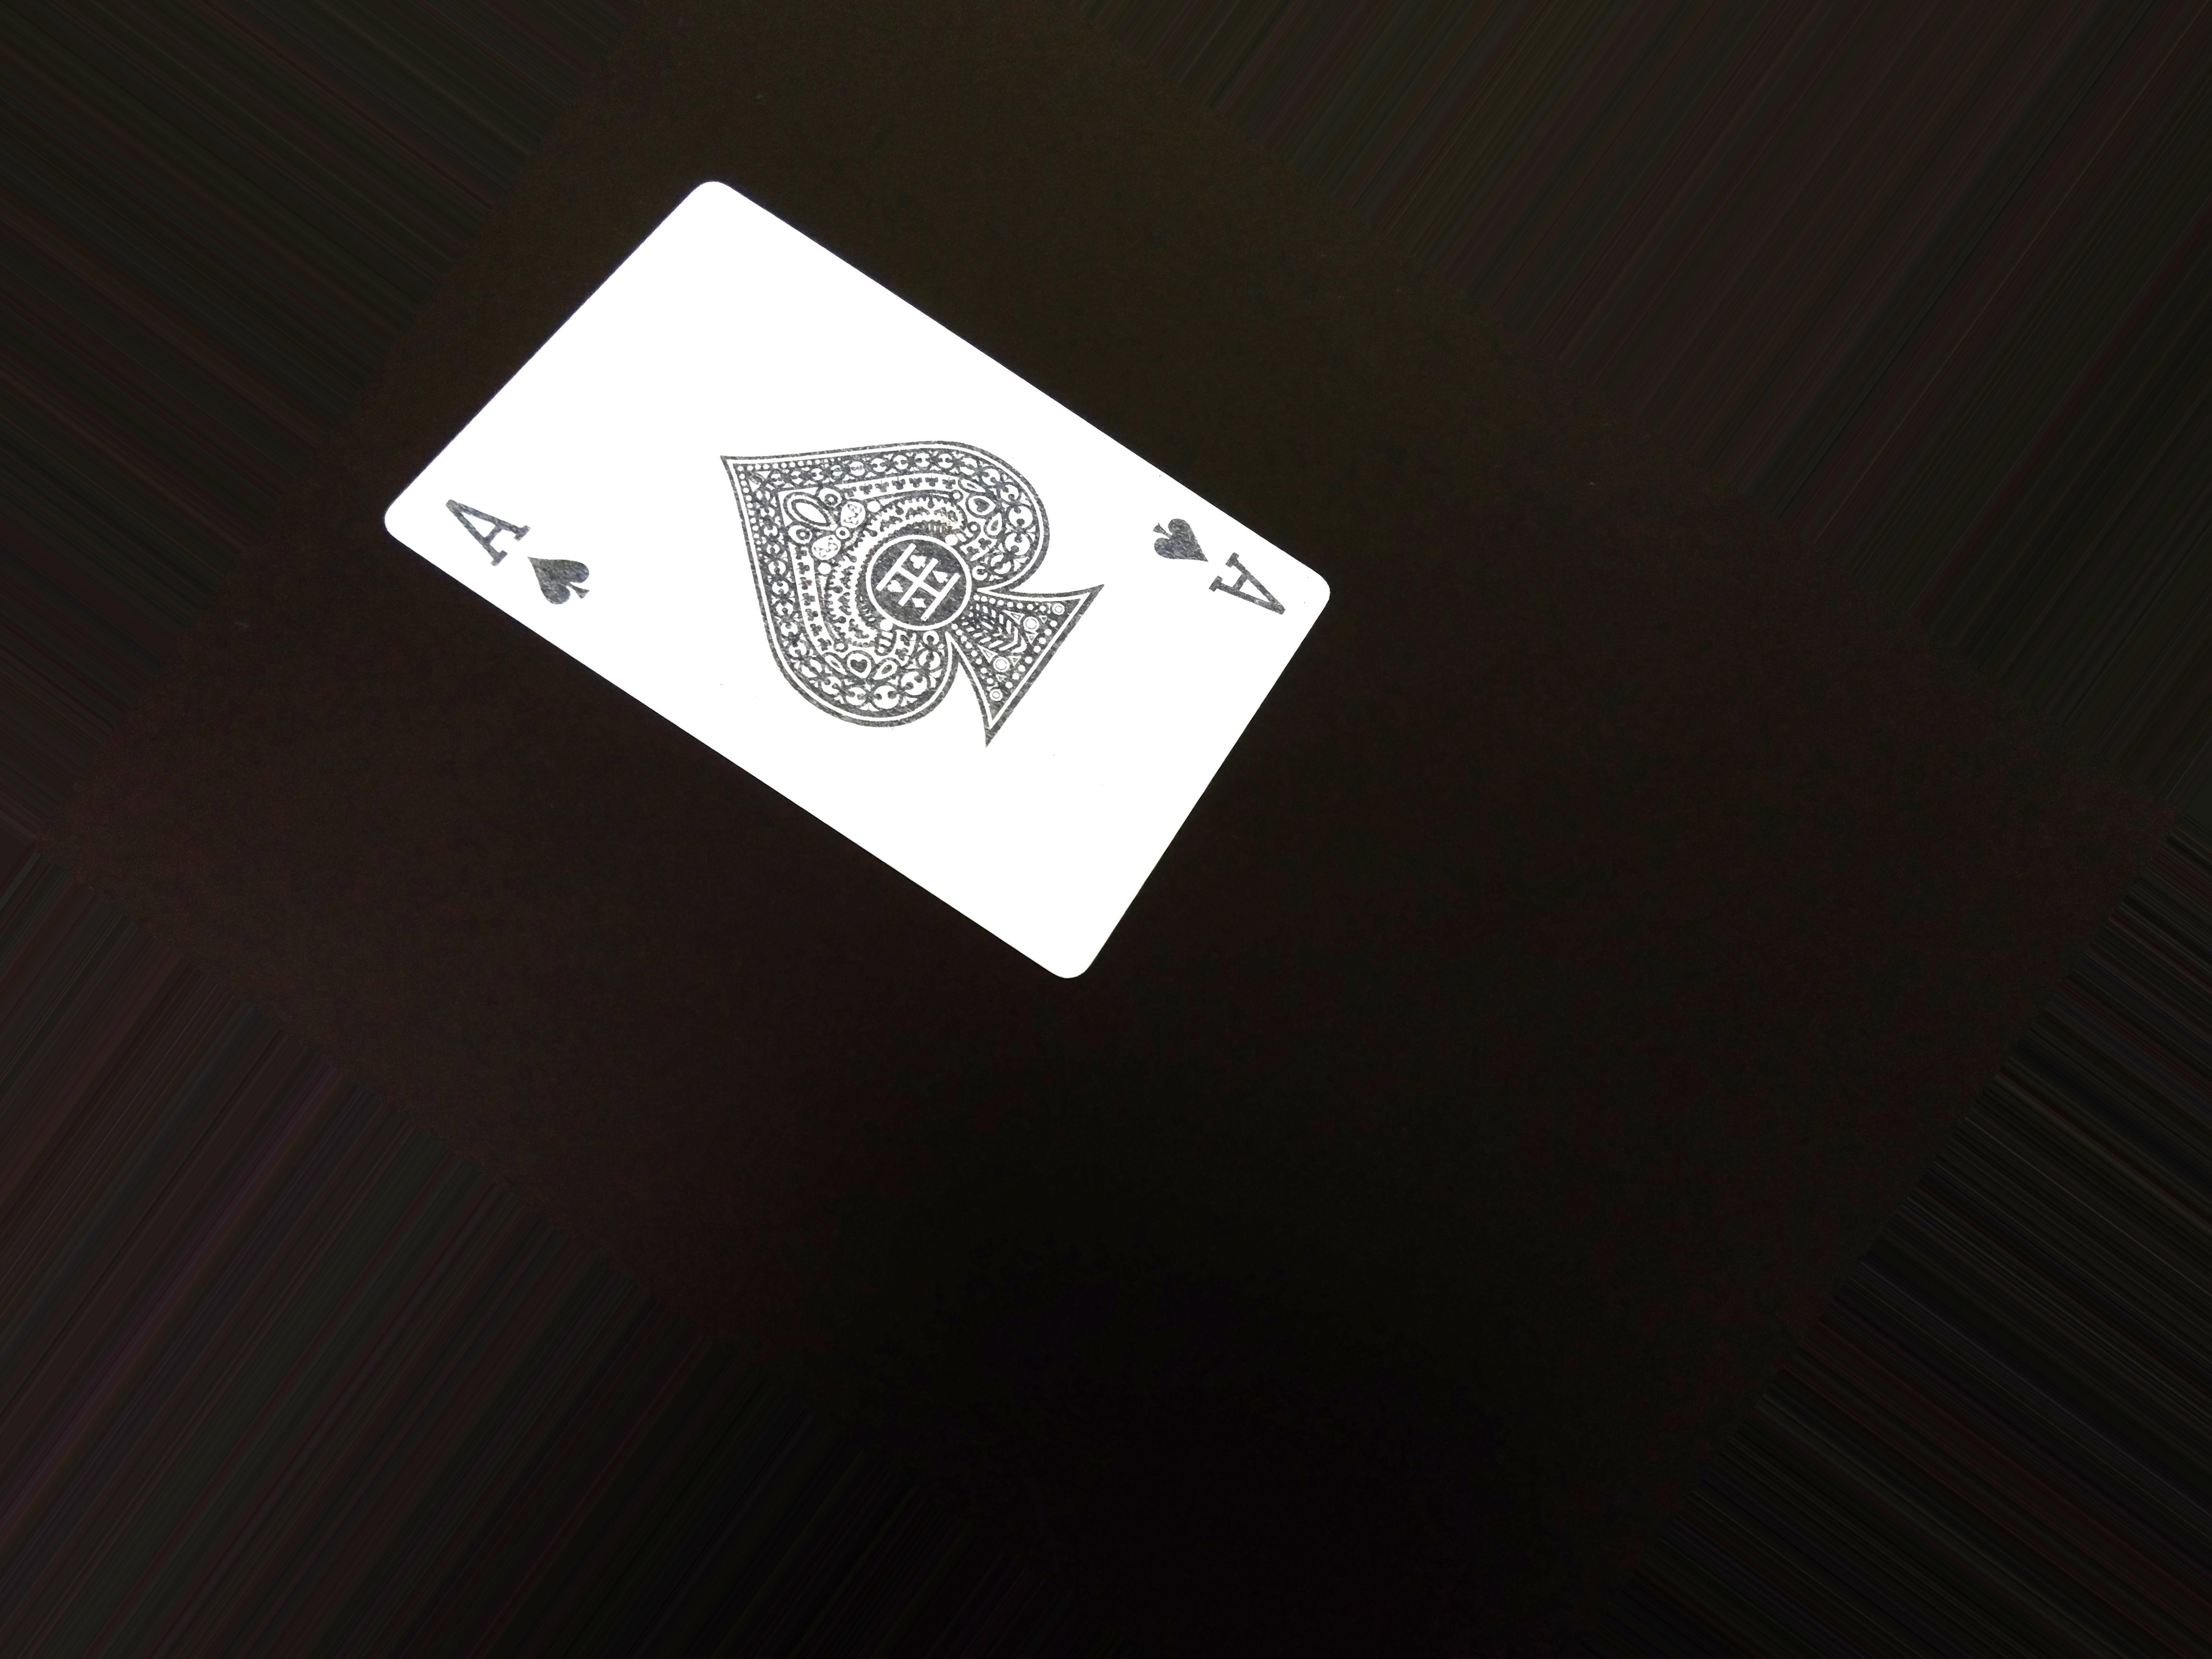AS: (428, 483, 624, 612)
